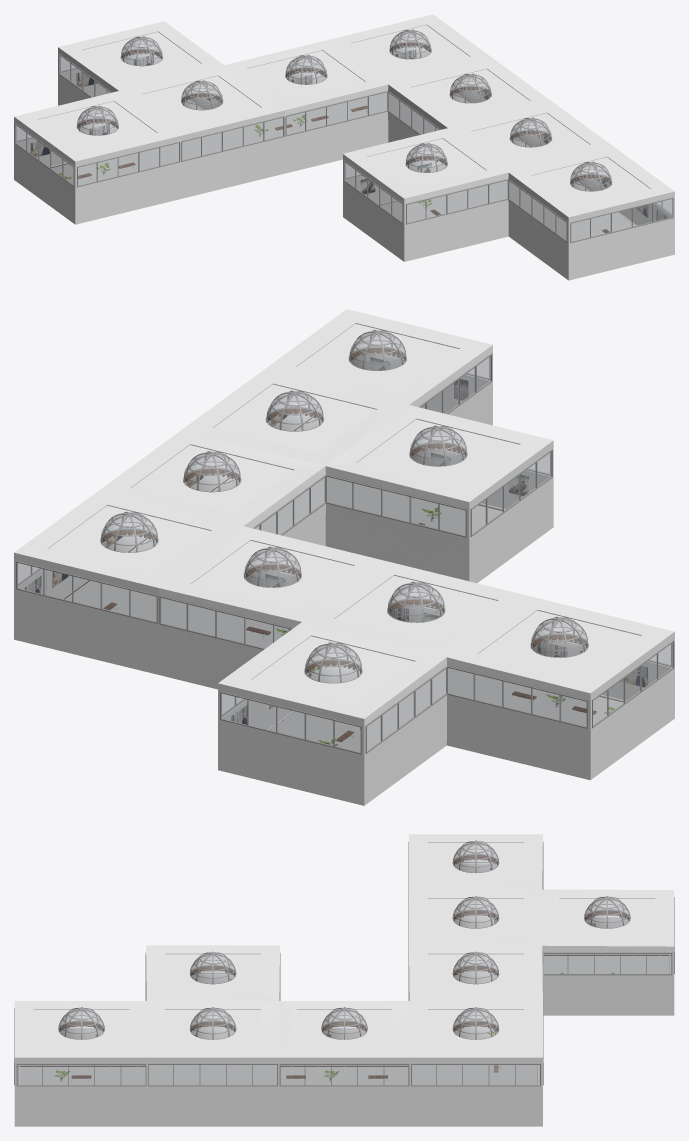
The model's file is Showroom Environment - gallery.fbx.
The picture shows the model from 3 angles, top to bottom: view 1: azimuth 30°, elevation 25°; view 2: azimuth 150°, elevation 25°; view 3: azimuth 270°, elevation 25°; orthographic projection. The views are drawn at different scales.
Parts seen in each view (by area): view 1: wall, ceiling, windows, floor, sphere, sphere_007, sphere_005, sphere_004, sphere_001, sphere_008, sphere_002, sphere_003 (+1 smaller); view 2: wall, ceiling, windows, floor, sphere_007, sphere_008, sphere_001, sphere_002, sphere_006, sphere_004, sphere_005, sphere_003 (+1 smaller); view 3: wall, ceiling, windows, floor, sphere_004, sphere_001, sphere_006, sphere, sphere_007, sphere_008, sphere_002, sphere_003 (+2 smaller).
Part boxes in pixels (x1,y1,x2,y2): wall: (14,14,674,280); ceiling: (39,25,649,207); windows: (14,46,673,243); floor: (51,92,635,241); sphere: (570,161,612,191); sphere_007: (120,36,162,66); sphere_005: (76,106,118,135); sphere_004: (181,80,223,110); sphere_001: (509,117,552,147); sphere_008: (449,73,491,103); sphere_002: (405,143,447,172); sphere_003: (285,55,327,84); wall: (14,309,674,805); ceiling: (48,324,640,704); windows: (16,352,674,754); floor: (68,417,622,751); sphere_007: (304,642,362,683); sphere_008: (183,451,241,492); sphere_001: (265,390,324,431); sphere_002: (409,425,467,466); sphere_006: (100,511,158,552); sphere_004: (387,581,445,622); sphere_005: (530,616,588,657); sphere_003: (243,546,301,587); wall: (14,834,674,1126); ceiling: (33,843,655,1049); windows: (14,841,674,1086); floor: (17,915,671,1084); sphere_004: (452,896,499,928); sphere_001: (189,1007,236,1039); sphere_006: (452,1007,499,1039); sphere: (58,1007,104,1039); sphere_007: (584,896,630,928); sphere_008: (321,1007,367,1039); sphere_002: (189,951,236,984); sphere_003: (452,951,499,984).
Size of the model in its own units: 4029 by 753 by 5029.
